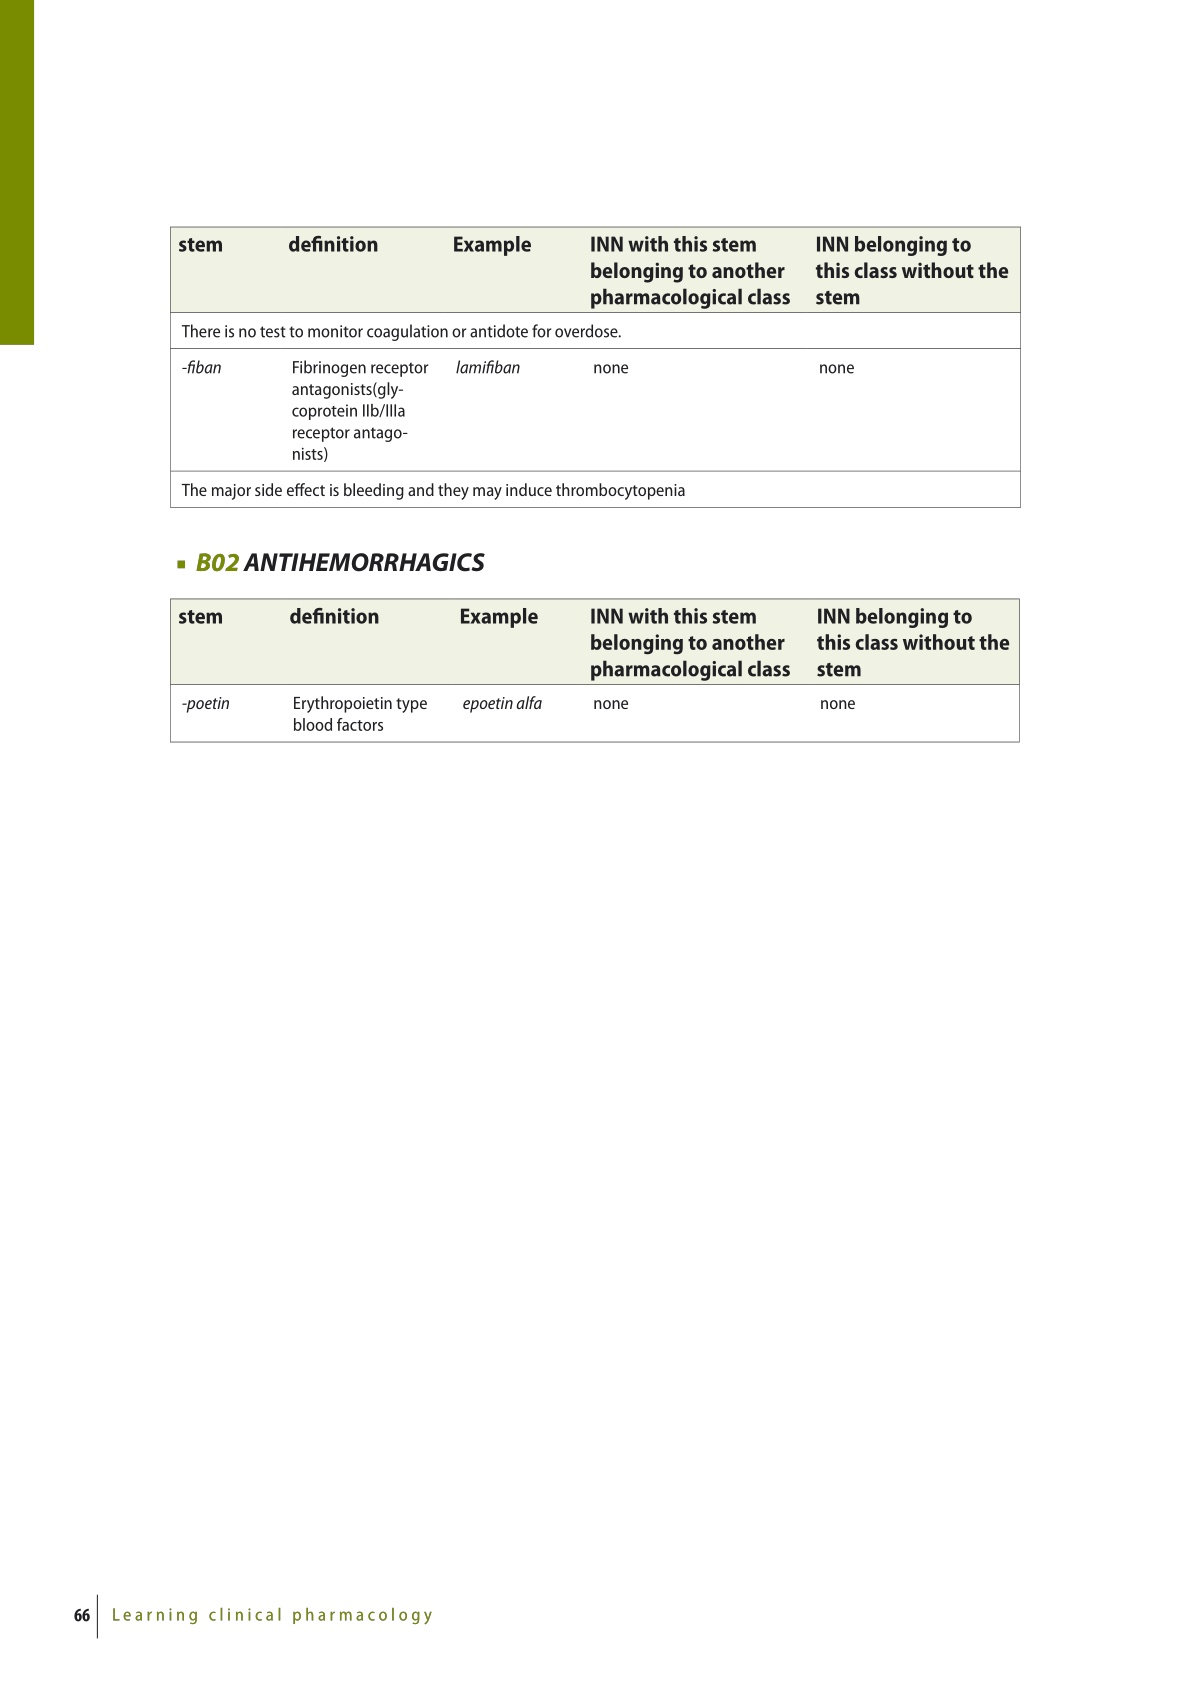partial_lined: (168, 224, 1021, 510), (168, 597, 1022, 745)
